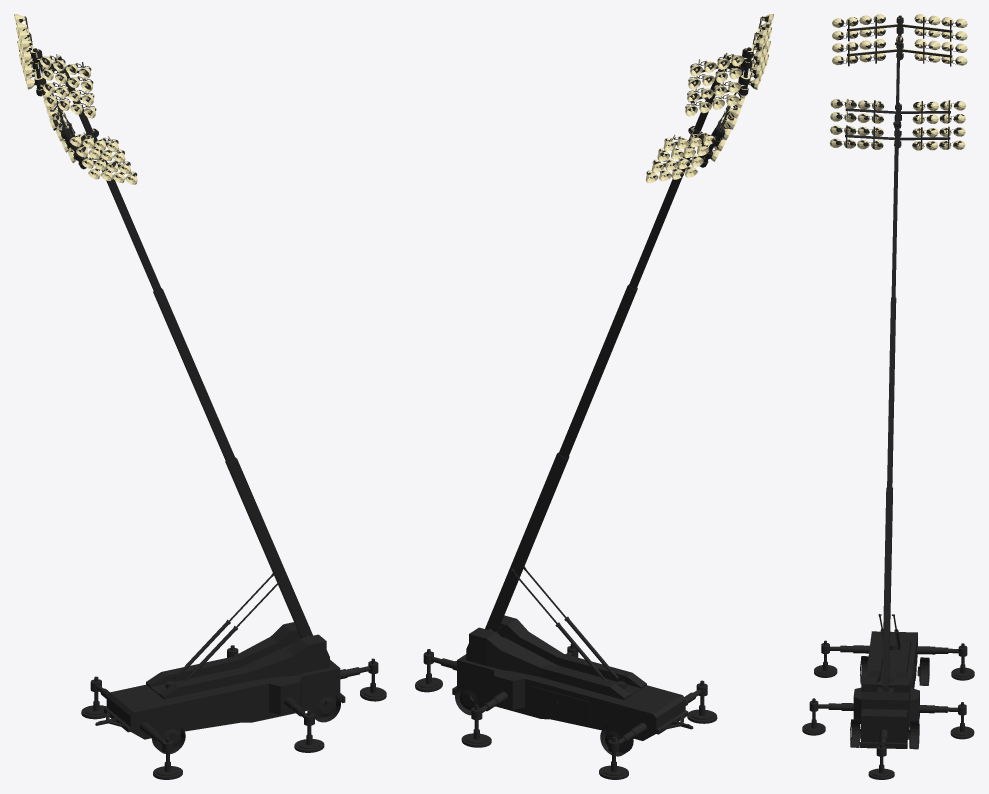
File: light_tower_7.obj
3 views of the same model, side by side, from view 1: azimuth 30°, elevation 25°; view 2: azimuth 150°, elevation 25°; view 3: azimuth 270°, elevation 25° (orthographic). The views are drawn at different scales.
Visible parts, largest first — view 1: light_tower.007; view 2: light_tower.007; view 3: light_tower.007.
Boxes of the visible parts, x1=… form: light_tower.007: x1=14, y1=14, x2=386, y2=779; light_tower.007: x1=415, y1=14, x2=773, y2=779; light_tower.007: x1=802, y1=14, x2=974, y2=779.
Size of the model in its own units: 2.74 by 5.53 by 1.38.
Materials: 1 (1 with a texture image).
